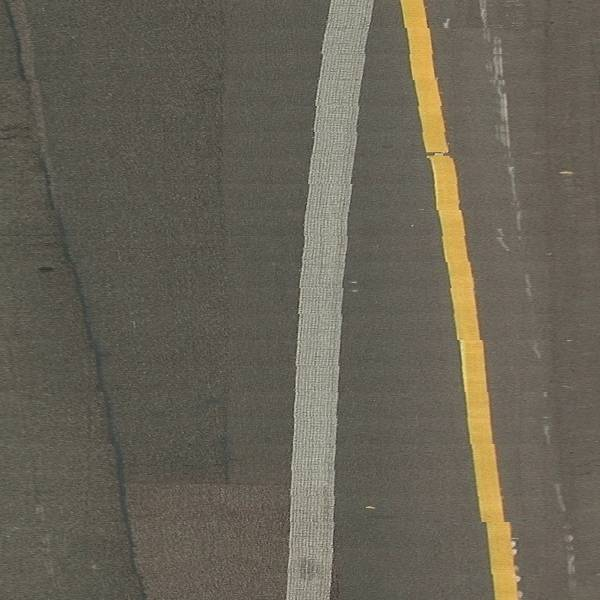road_damage: (109, 463, 304, 500)
